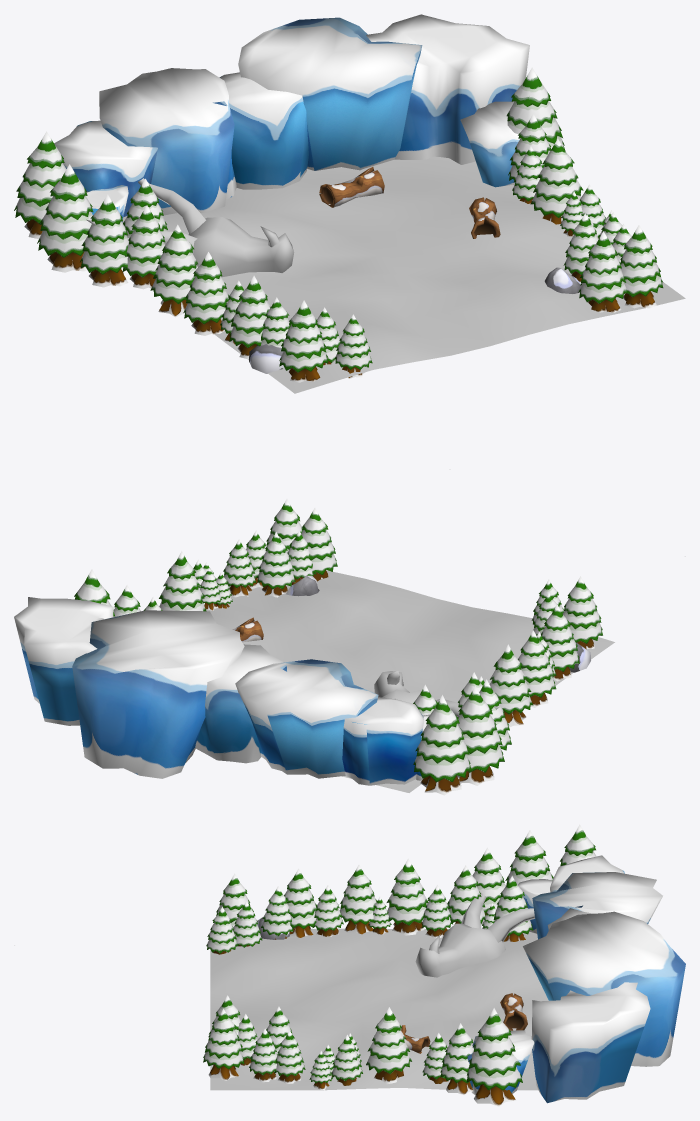
Rendered from Newbie_2.FBX.
3 views of the same model, one above another, from view 1: azimuth 30°, elevation 25°; view 2: azimuth 150°, elevation 25°; view 3: azimuth 270°, elevation 25° (orthographic). The views are drawn at different scales.
Parts seen in each view (by area): view 1: tereno1, Iceberg03, Iceberg006, Iceberg05, Iceberg02, Animal bones1, Iceberg01, Three038, Iceberg008, Three037, Three039, Three (+20 smaller); view 2: tereno1, Iceberg03, Iceberg006, Iceberg05, Iceberg01, Iceberg02, Three039, Three038, Three, Three002, Three012, Three008 (+15 smaller); view 3: tereno1, Iceberg03, Iceberg05, Iceberg006, Animal bones1, Three040, Three012, Three, Three019, Three008, Three014, Three009 (+23 smaller).
Boxes of the visible parts, x1,y1,x2,y2 form: tereno1: (122, 156, 685, 393); Iceberg03: (238, 17, 422, 170); Iceberg006: (99, 68, 236, 215); Iceberg05: (366, 14, 529, 164); Iceberg02: (213, 72, 308, 189); Animal bones1: (86, 178, 294, 277); Iceberg01: (54, 120, 157, 223); Three038: (37, 164, 93, 272); Iceberg008: (460, 101, 520, 187); Three037: (80, 194, 128, 287); Three039: (14, 131, 66, 239); Three: (150, 224, 197, 317); tereno1: (206, 570, 614, 792); Iceberg03: (72, 610, 244, 778); Iceberg006: (235, 659, 378, 778); Iceberg05: (14, 597, 113, 725); Iceberg01: (342, 697, 424, 785); Iceberg02: (195, 644, 286, 763); Three039: (413, 695, 471, 795); Three038: (457, 685, 504, 785); Three: (489, 644, 533, 727); Three002: (563, 576, 602, 649); Three012: (159, 551, 206, 611); Three008: (518, 630, 556, 707); tereno1: (210, 928, 548, 1090); Iceberg03: (523, 911, 685, 1066); Iceberg05: (531, 982, 650, 1103); Iceberg006: (532, 872, 662, 939); Animal bones1: (415, 893, 534, 977); Three040: (466, 1008, 522, 1106); Three012: (366, 1007, 411, 1084); Three: (386, 858, 428, 935); Three019: (203, 1009, 244, 1080); Three008: (339, 865, 376, 934); Three014: (440, 1023, 473, 1095); Three009: (284, 868, 316, 937).
Size of the model in its own units: 644 by 168 by 881.
